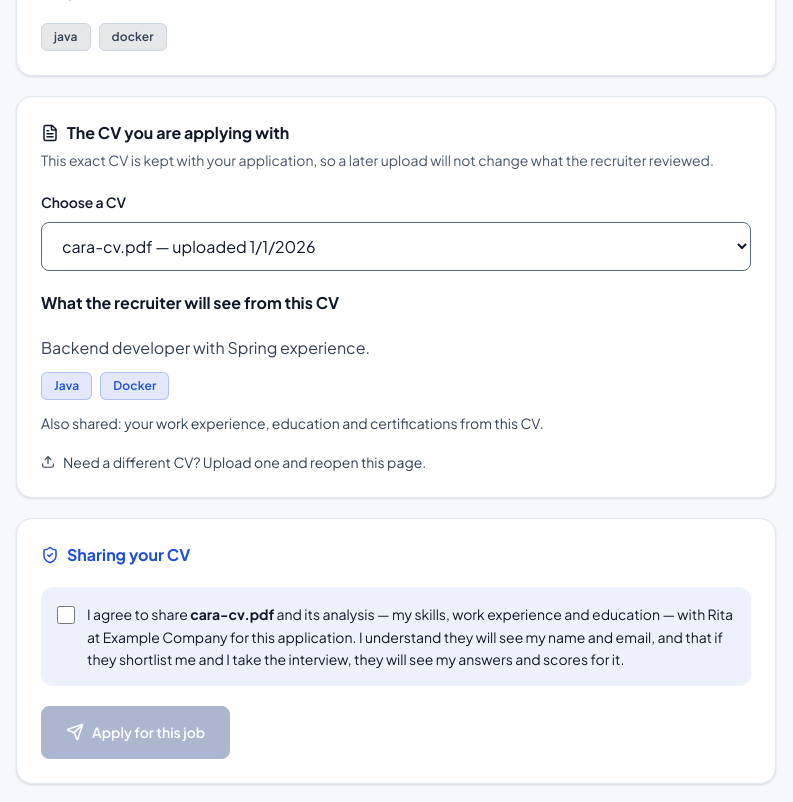
Test: a successful application reports that it is under review
(page scrolled)
What coordinates should you click on to do the following:
click the checkbox with id "consent"
I would click on:
 (66, 615)
Its box is [57,606,75,624].
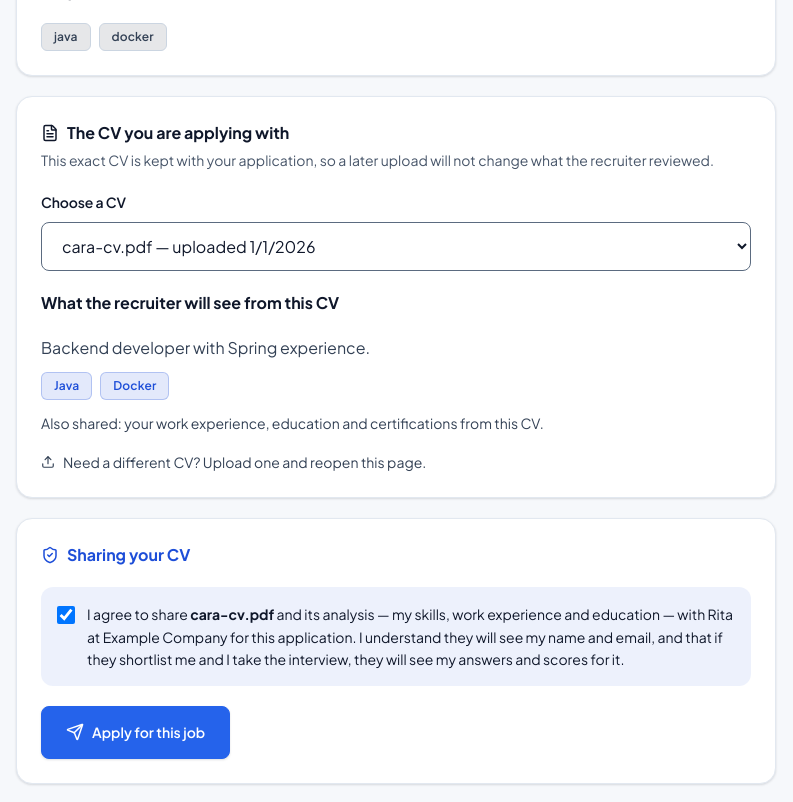
What coordinates should you click on to do the following:
click the button "Apply for this job"
I would click on:
 (136, 732)
Its box is [41,706,230,759].
(page scrolled)
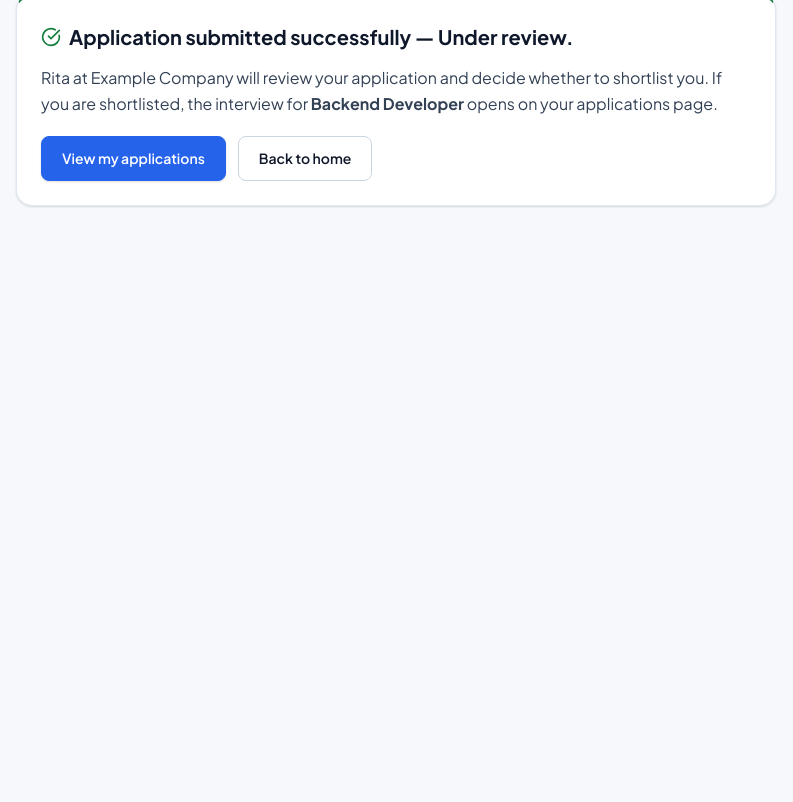
Expected: the text "Application submitted successfully" is shown, [69,24,438,49]
Expected: the text "Under review" is shown, [438,24,566,49]
